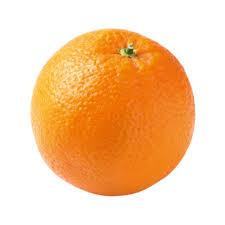orange: (19, 18, 213, 207)
